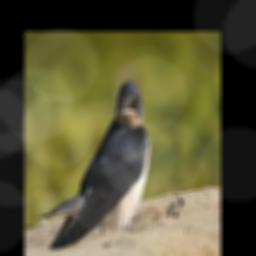Swallow: (36, 80, 150, 248)
